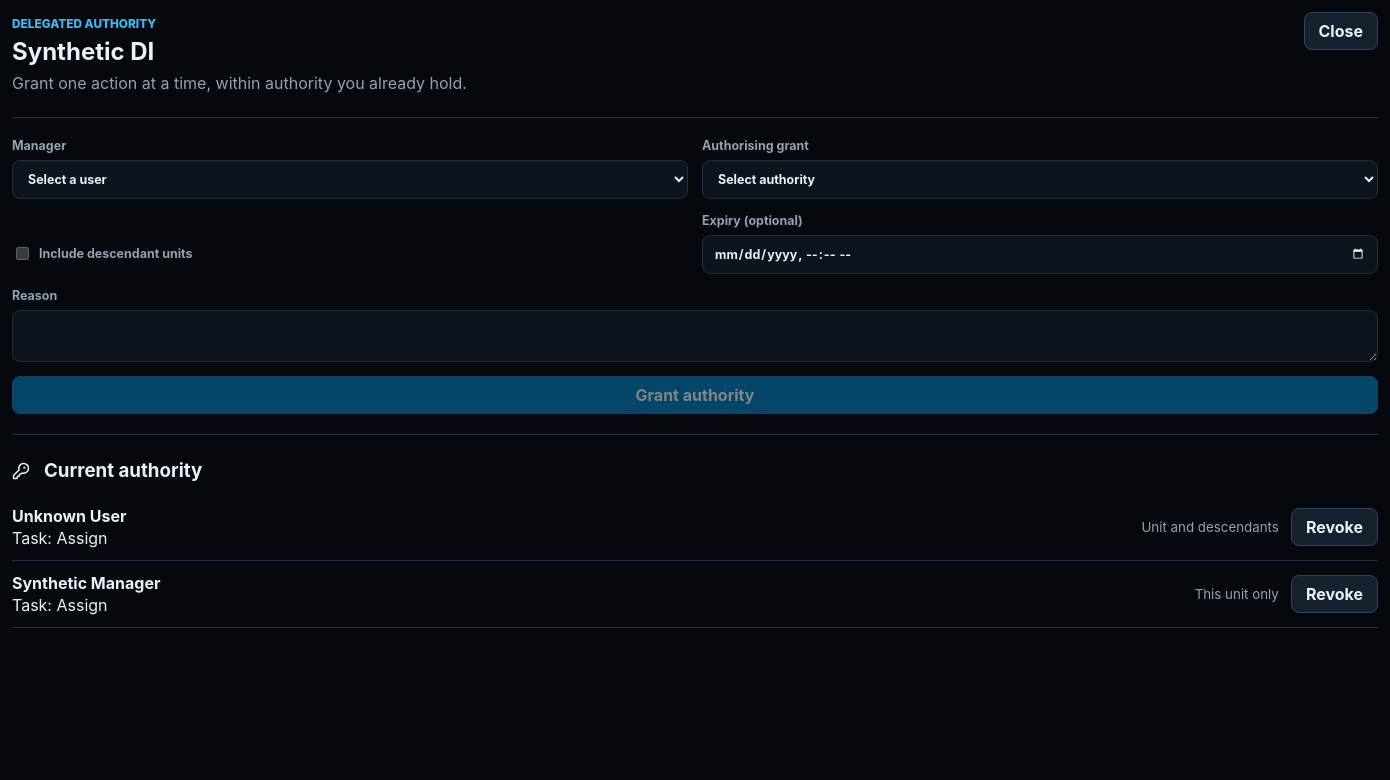
Test case: revokes a current grant with its exact version and a recorded reason
The image size is (1390, 780).
Expected: the list item "Synthetic Manager task: assign This unit only Revoke" is shown, [12,561,1378,628]
Click the button "Revoke" in the row of "Synthetic Manager" at (1334,594), box [1291,575,1378,613]
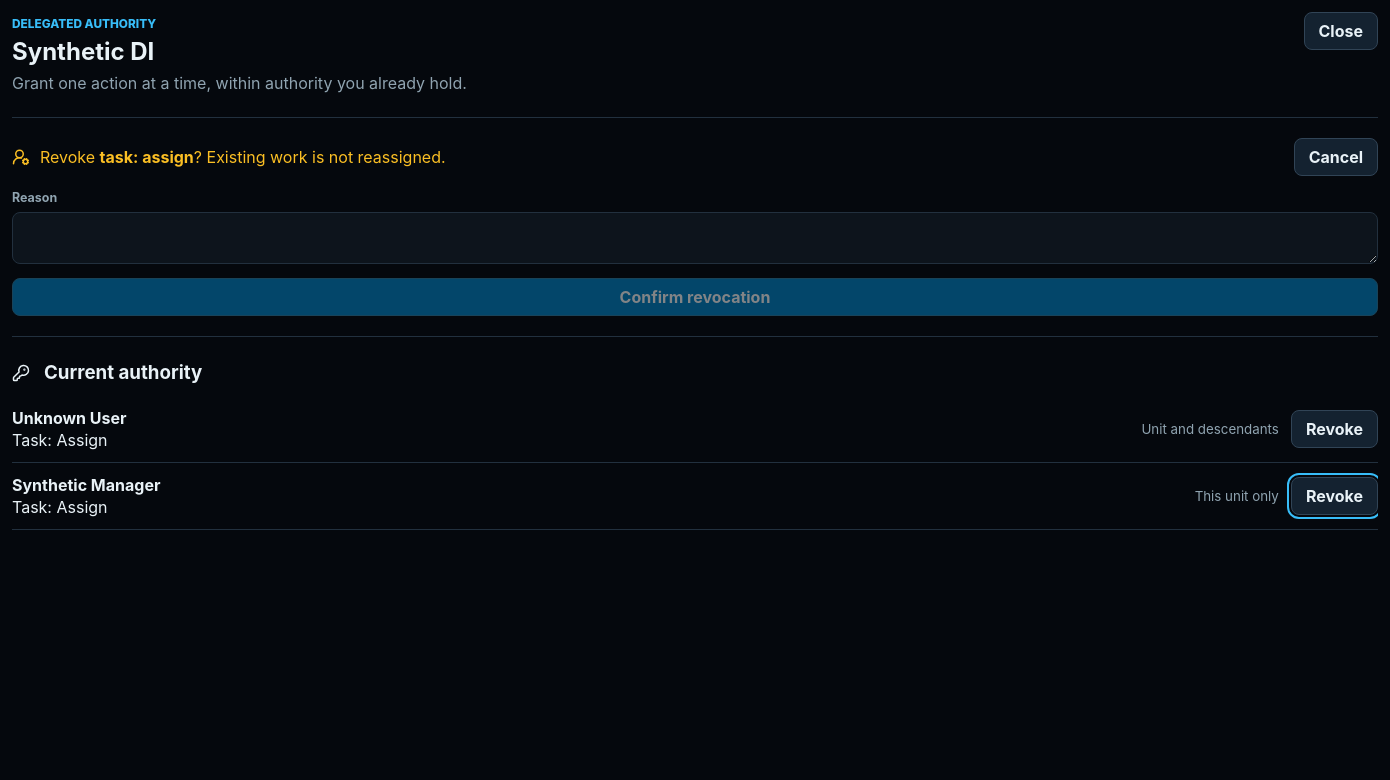
Now the text "Revoke task: assign? Existing work is not reassigned." is shown, box [40,147,446,167]
Type "Manager has left the synthetic unit." into the text box labelled "Reason" at (695,238), box [12,212,1378,264]
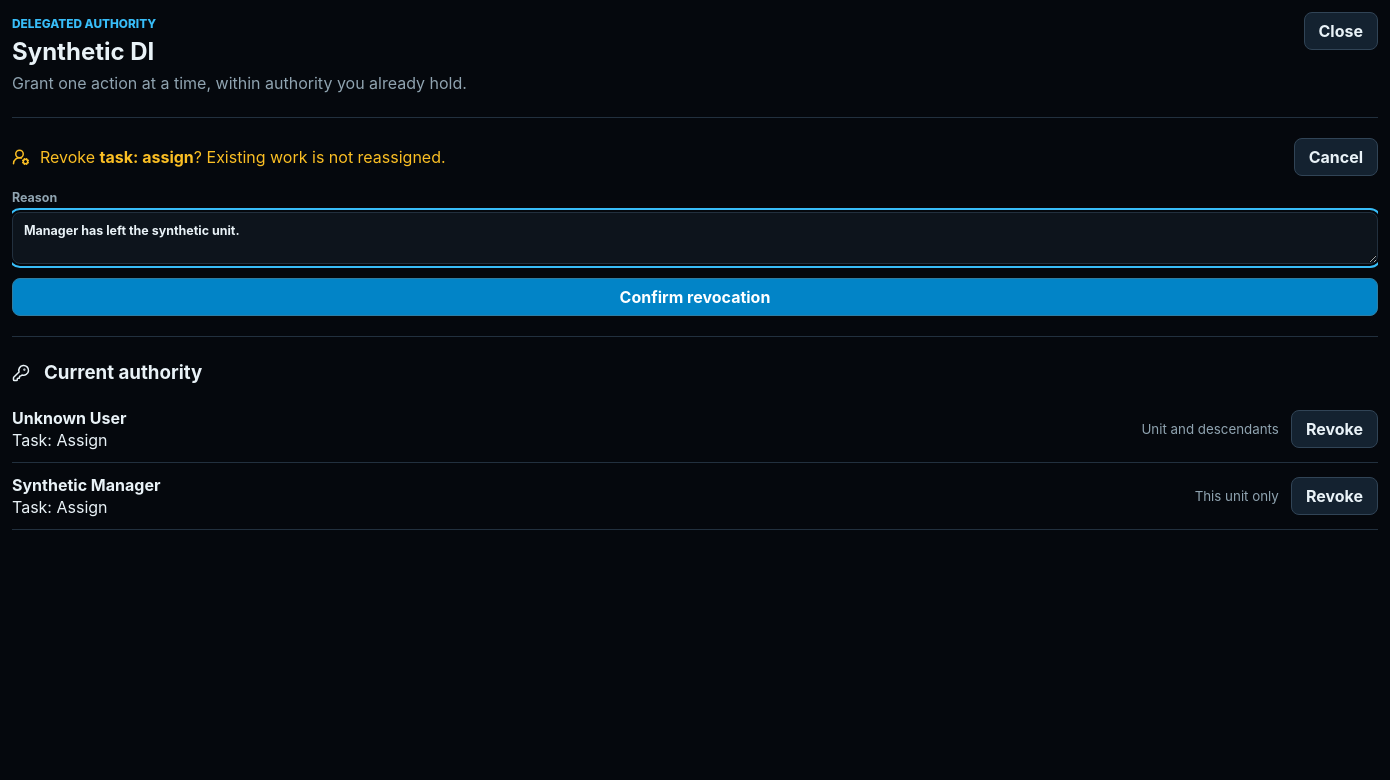
Click the button "Confirm revocation" at (695,297), box [12,278,1378,316]
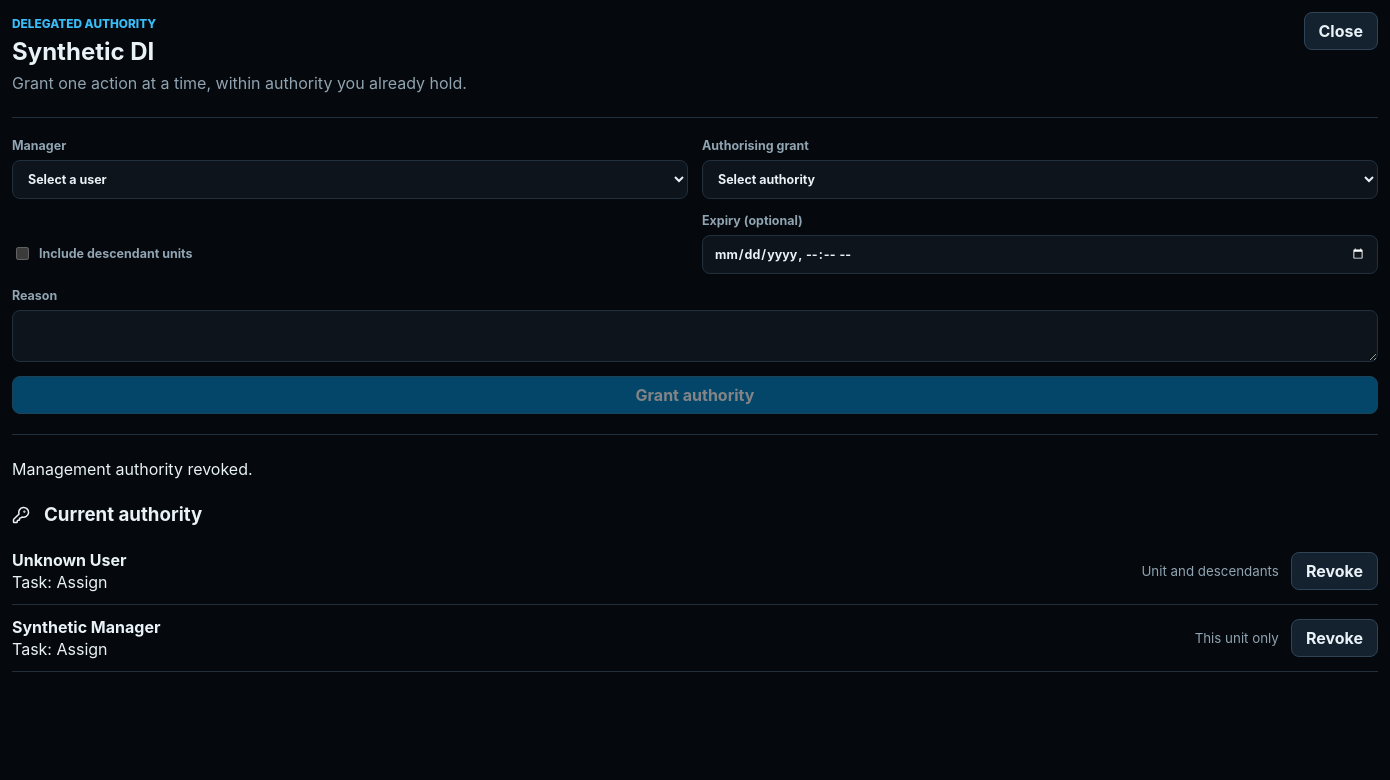
Now the text "Management authority revoked." is shown, box [12,459,253,479]
